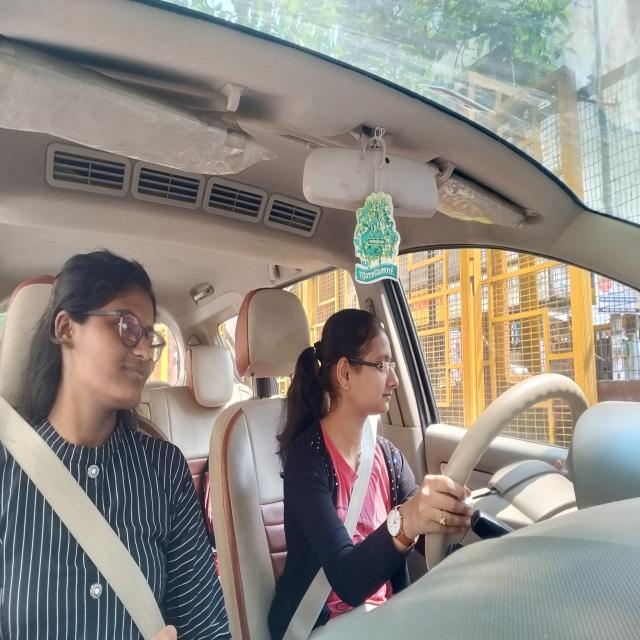person: (61, 257, 164, 410), (319, 305, 406, 420)
